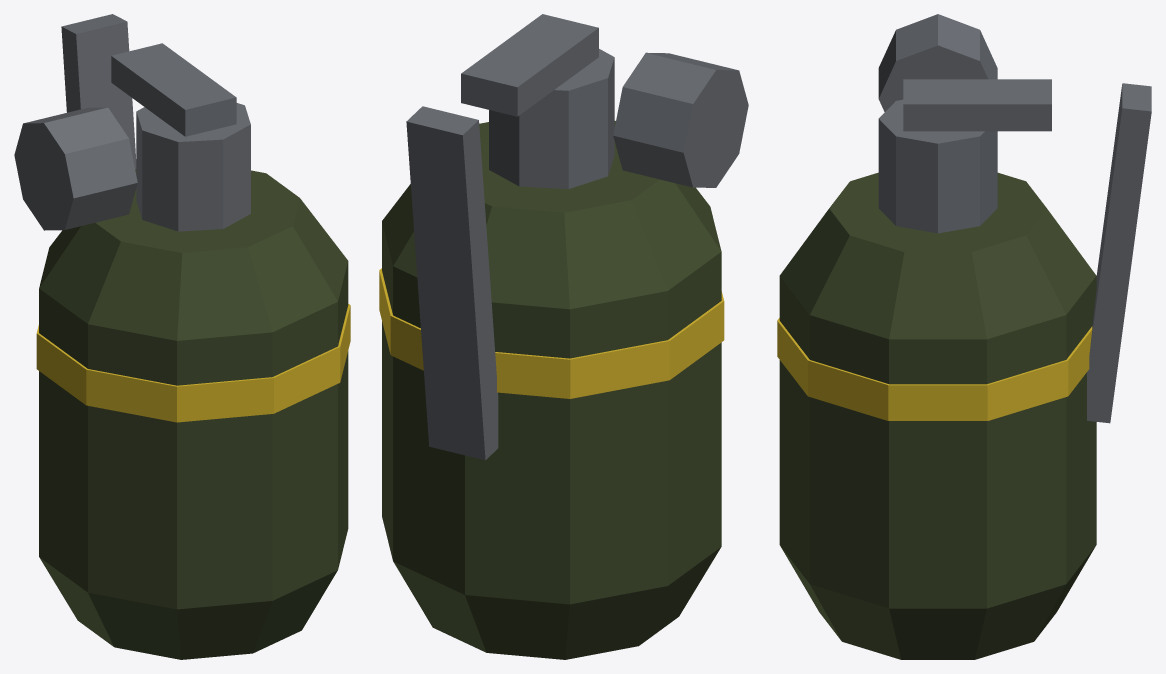
File: grenade.glb
The picture shows the model from 3 angles, left to right: view 1: azimuth 30°, elevation 25°; view 2: azimuth 150°, elevation 25°; view 3: azimuth 270°, elevation 25°; orthographic projection. The views are drawn at different scales.
Parts seen in each view (by area): view 1: grenade; view 2: grenade; view 3: grenade.
Part boxes in pixels (x1,y1,x2,y2): grenade: [14, 14, 350, 659]; grenade: [379, 14, 748, 659]; grenade: [777, 14, 1151, 659].
Bounding box in the file's own units: 0.0659 × 0.117 × 0.0757.
